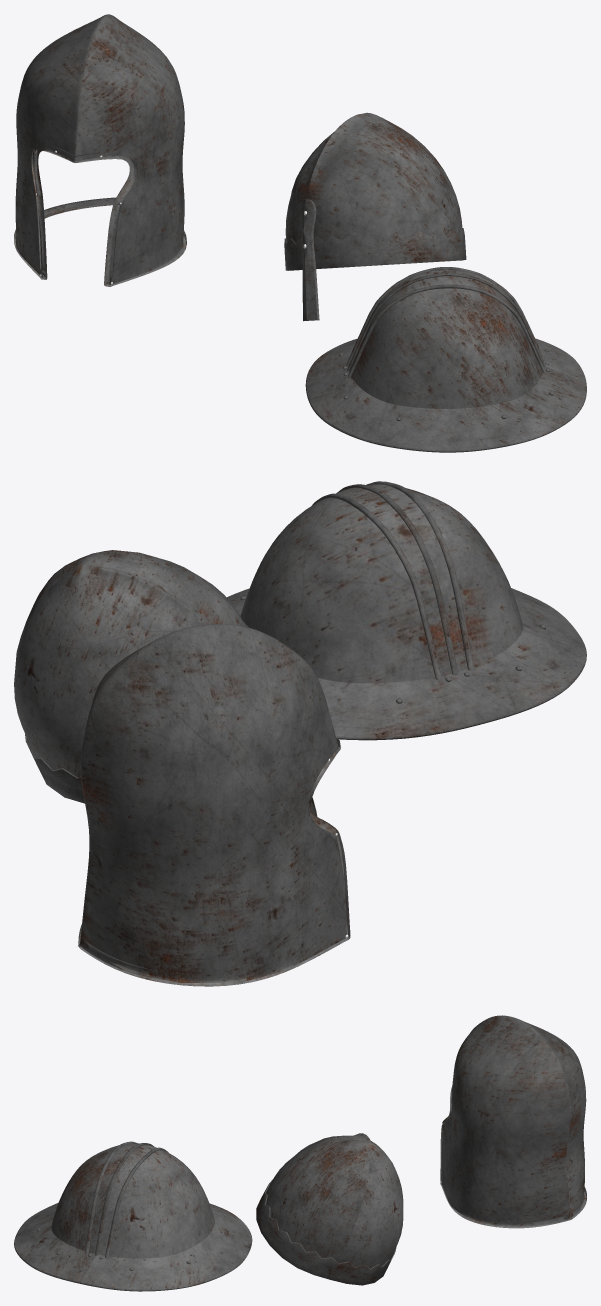
Rendered from casco glb.glb.
3 renders of one model, top to bottom at view 1: azimuth 30°, elevation 25°; view 2: azimuth 150°, elevation 25°; view 3: azimuth 270°, elevation 25°, orthographic. The views are drawn at different scales.
Parts seen in each view (by area): view 1: HelmetA_Base, HelmetC_Base, Helmet_B_Base, Rim, HelmetC_Base_Rim, HelmetA_Lines, Nose; view 2: HelmetC_Base, HelmetA_Base, Helmet_B_Base, HelmetA_Lines, HelmetC_Base_Rim, Rim; view 3: HelmetC_Base, HelmetA_Base, Helmet_B_Base, Rim, HelmetA_Lines, HelmetC_Base_Rim.
Part boxes in pixels (<box>): HelmetA_Base: <box>305,269,586,452</box>; HelmetC_Base: <box>15,14,184,285</box>; Helmet_B_Base: <box>285,112,463,270</box>; Rim: <box>284,228,466,270</box>; HelmetC_Base_Rim: <box>14,145,186,286</box>; HelmetA_Lines: <box>346,267,546,377</box>; Nose: <box>301,199,319,321</box>; HelmetC_Base: <box>78,624,347,982</box>; HelmetA_Base: <box>227,484,586,740</box>; Helmet_B_Base: <box>14,550,245,777</box>; HelmetA_Lines: <box>312,481,474,680</box>; HelmetC_Base_Rim: <box>78,738,350,986</box>; Rim: <box>25,622,248,803</box>; HelmetC_Base: <box>441,1015,586,1226</box>; HelmetA_Base: <box>14,1143,252,1291</box>; Helmet_B_Base: <box>266,1133,403,1268</box>; Rim: <box>256,1179,396,1285</box>; HelmetA_Lines: <box>85,1141,168,1258</box>; HelmetC_Base_Rim: <box>440,1086,586,1228</box>.
Bounding box in the file's own units: 1.42 × 0.9729 × 2.73.
Materials: 4 (2 with a texture image).
